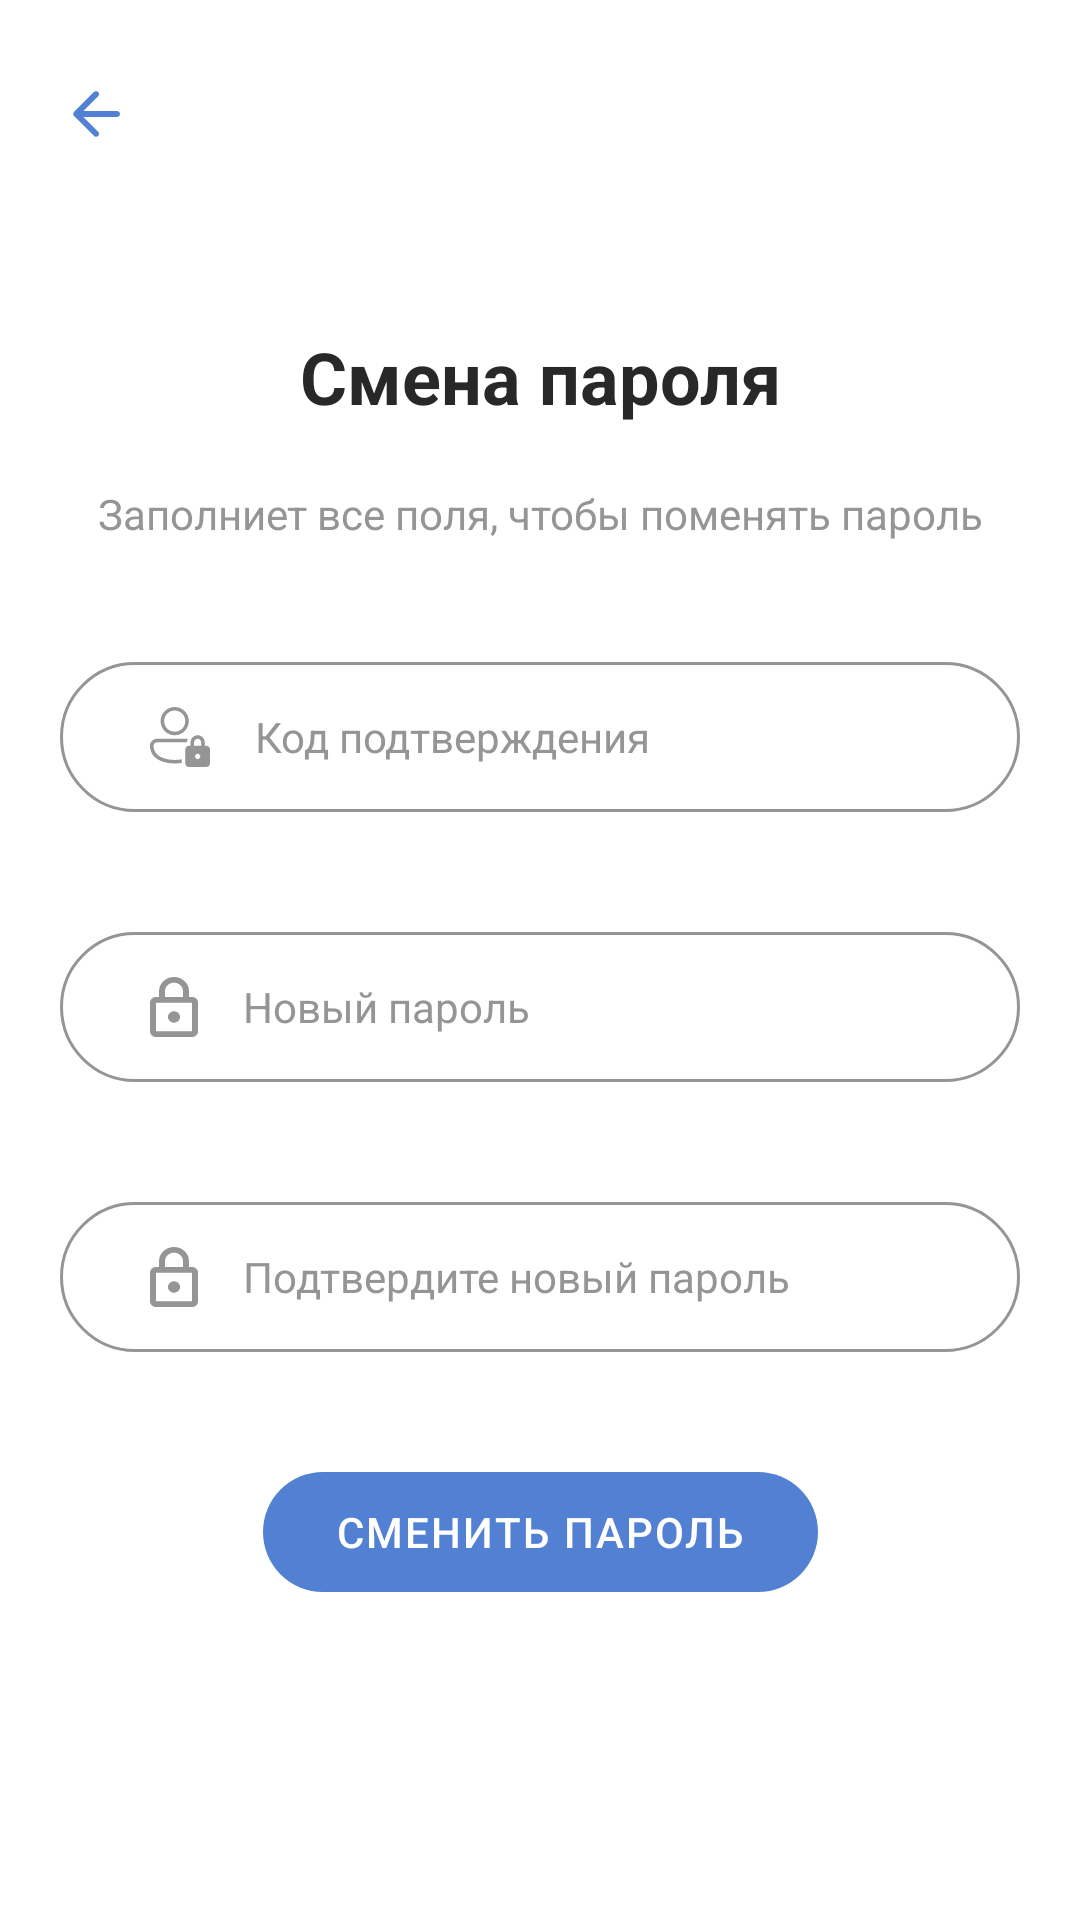

Point at icon controls on the screen. Image size 1080 x 1920, points as [x,y].
back: [96,114]
